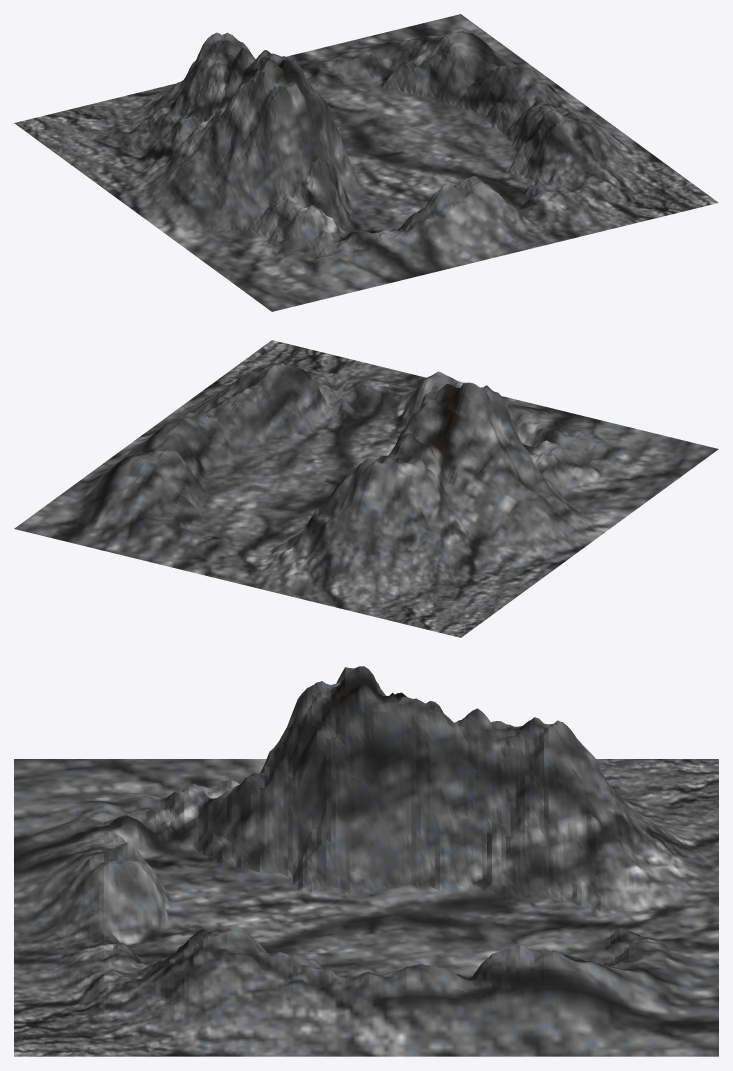
File: terrenoBlender.obj
The picture shows the model from 3 angles, top to bottom: view 1: azimuth 30°, elevation 25°; view 2: azimuth 150°, elevation 25°; view 3: azimuth 270°, elevation 25°; orthographic projection. The views are drawn at different scales.
Parts seen in each view (by area): view 1: Landscape; view 2: Landscape; view 3: Landscape.
Boxes of the visible parts, x1,y1,x2,y2 form: Landscape: [14, 14, 718, 311]; Landscape: [14, 340, 718, 637]; Landscape: [14, 666, 718, 1056].
Bounding box in the file's own units: 8.83 × 2.41 × 8.83.
Materials: 1 (1 with a texture image).
